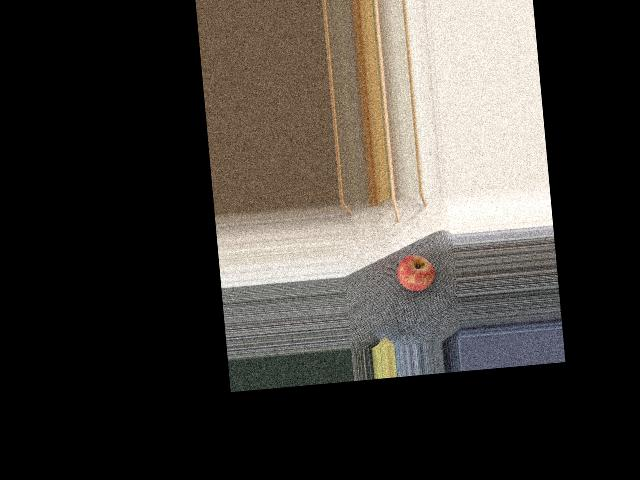apple: (395, 251, 439, 295)
